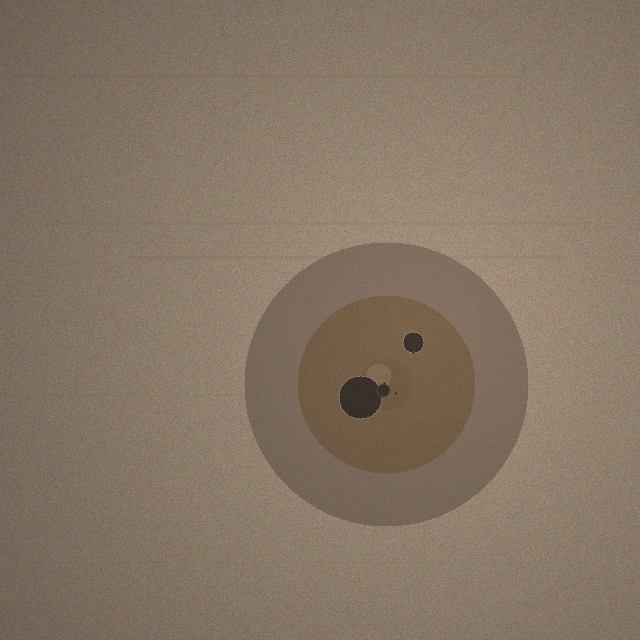shrinkage: (244, 242, 528, 526)
